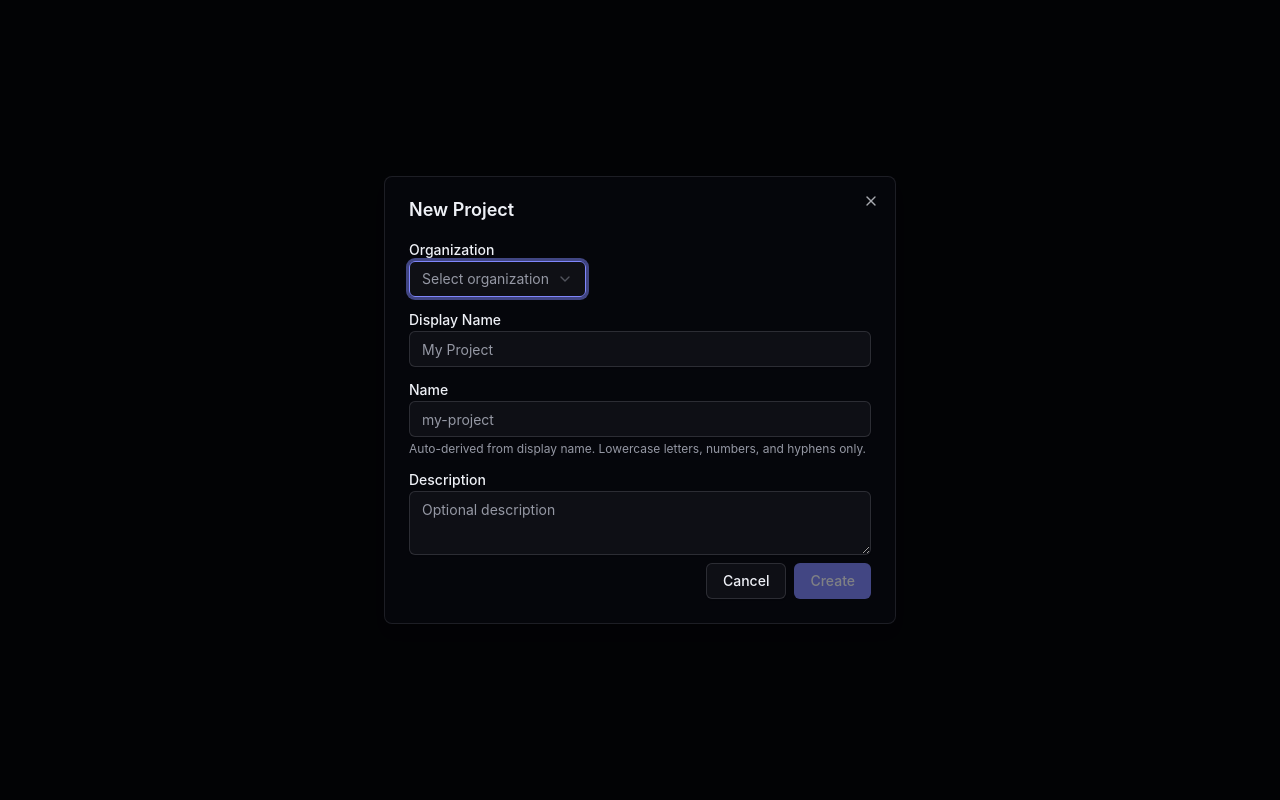
Scenario: CreateProjectDialog › shows reset link when name has been manually edited
Type "Test Project" into the field with placeholder "My Project" at coordinates (640, 349), box [409,331,871,367]
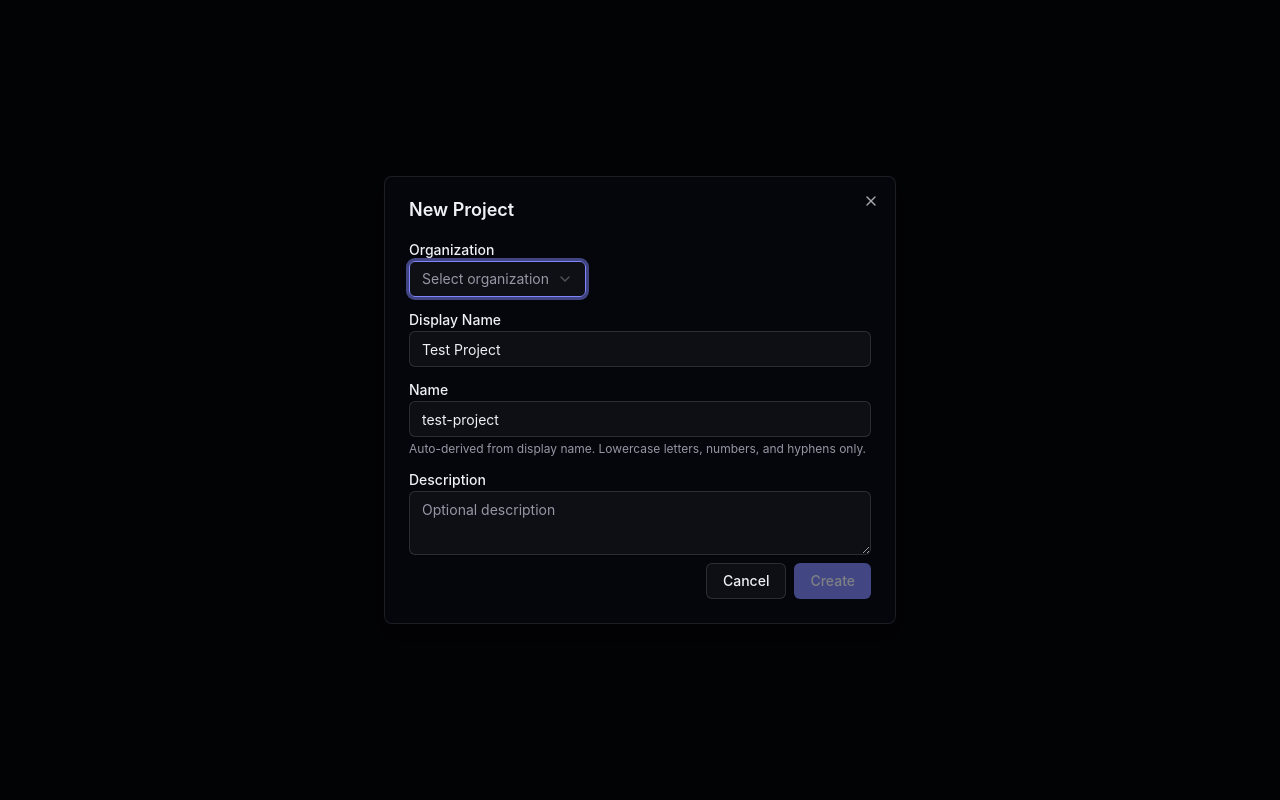
Replace the text in the field with placeholder "my-project" with "custom-slug" at coordinates (640, 419), box [409,401,871,437]
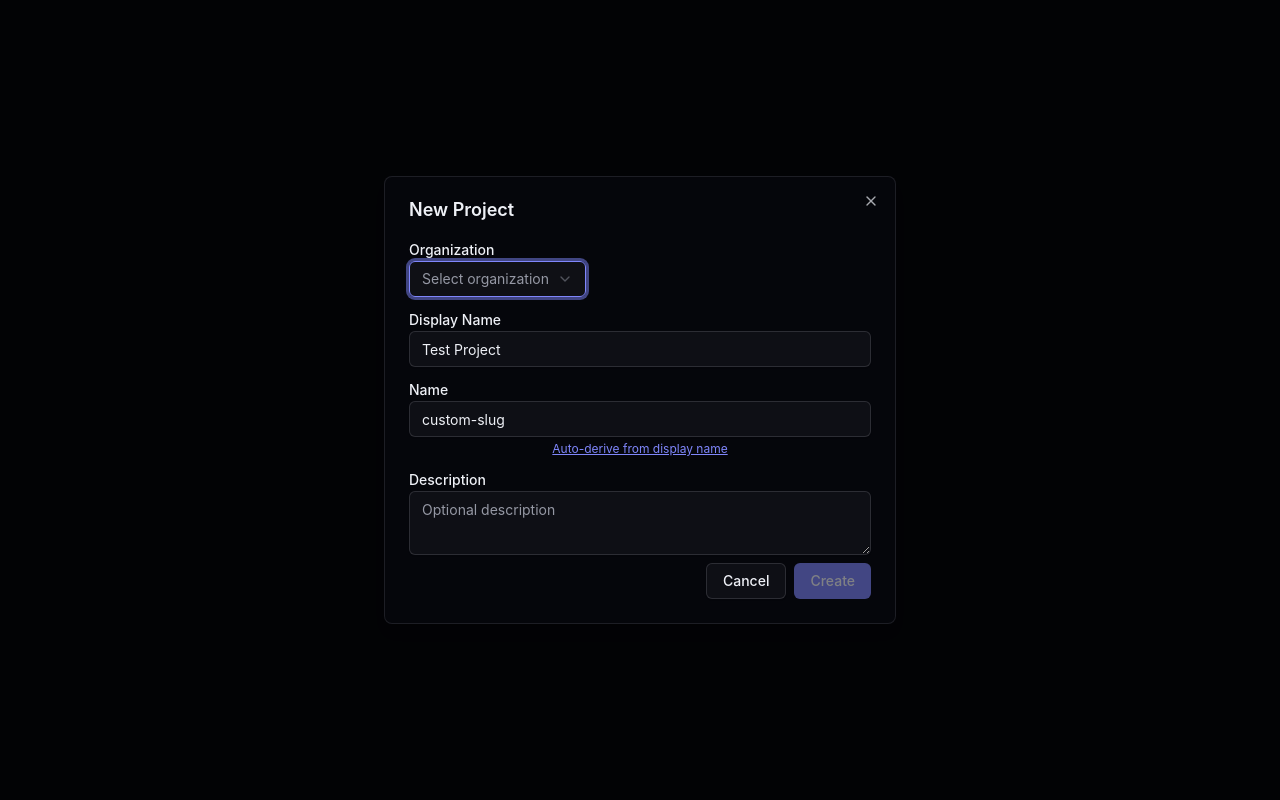
Now the button "Auto-derive from display name" is shown, box [409,441,871,457]
